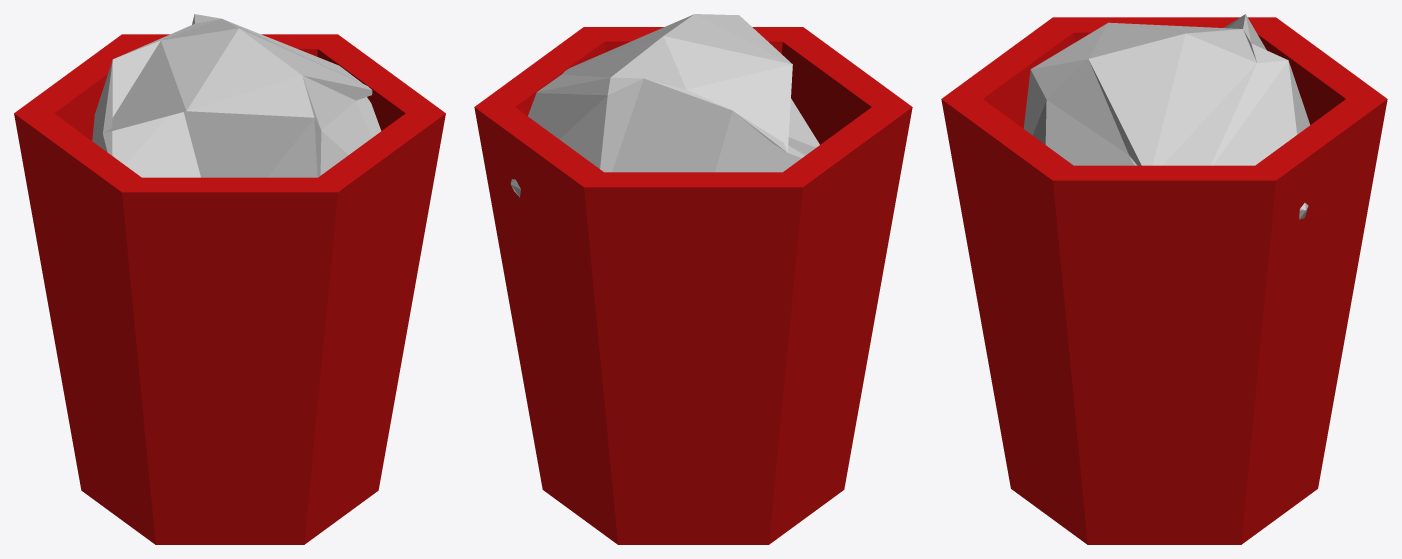
The model's file is Lixeira.dae.
3 renders of one model, left to right at view 1: azimuth 30°, elevation 25°; view 2: azimuth 150°, elevation 25°; view 3: azimuth 270°, elevation 25°, orthographic. The views are drawn at different scales.
Visible parts, largest first — view 1: Cylinder, Icosphere; view 2: Cylinder, Icosphere; view 3: Cylinder, Icosphere.
Part boxes in pixels (<box>): Cylinder: <box>14,34,445,544</box>; Icosphere: <box>92,14,381,177</box>; Cylinder: <box>474,27,912,544</box>; Icosphere: <box>510,14,819,197</box>; Cylinder: <box>941,17,1387,544</box>; Icosphere: <box>1023,14,1309,219</box>.
Bounding box in the file's own units: 2.52 × 2.91 × 3.34.
